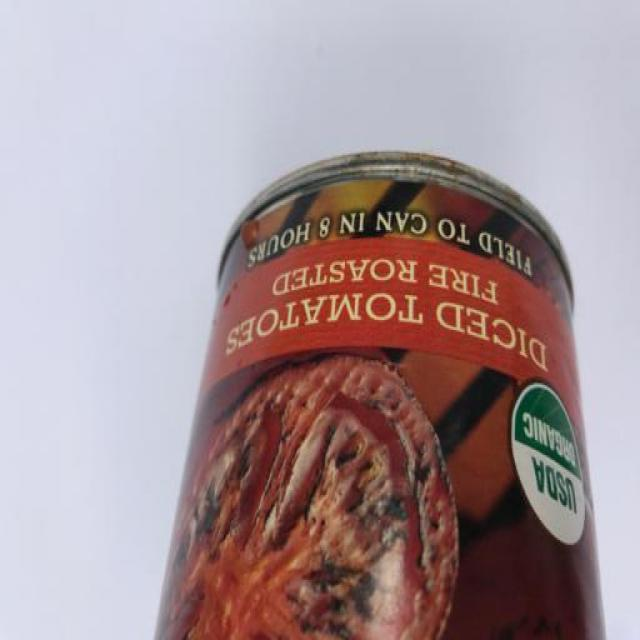metel: (132, 146, 640, 640)
